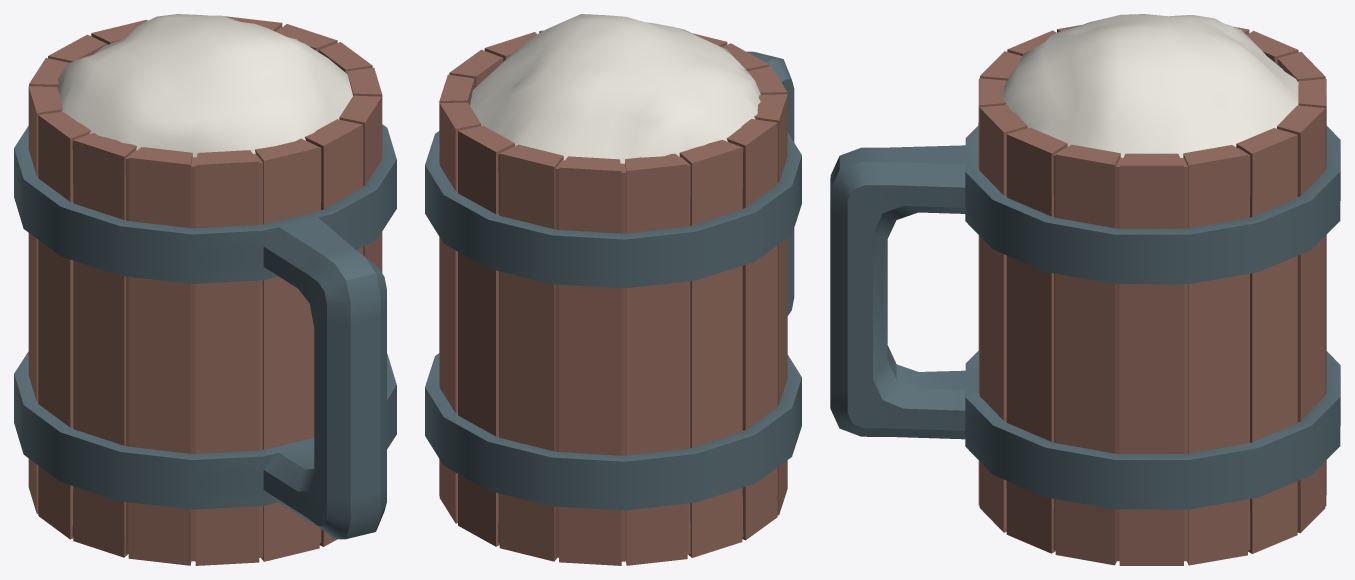
File: mug.fantasy (3).fbx
3 views of the same model, side by side, from view 1: azimuth 30°, elevation 25°; view 2: azimuth 150°, elevation 25°; view 3: azimuth 270°, elevation 25° (orthographic).
Visible parts, largest first — view 1: Cube.001; view 2: Cube.001; view 3: Cube.001.
Part boxes in pixels (x1,y1,x2,y2): Cube.001: (14, 14, 396, 565); Cube.001: (425, 14, 801, 565); Cube.001: (830, 14, 1340, 565).
Size of the model in its own units: 10.6 by 14.38 by 14.39.
